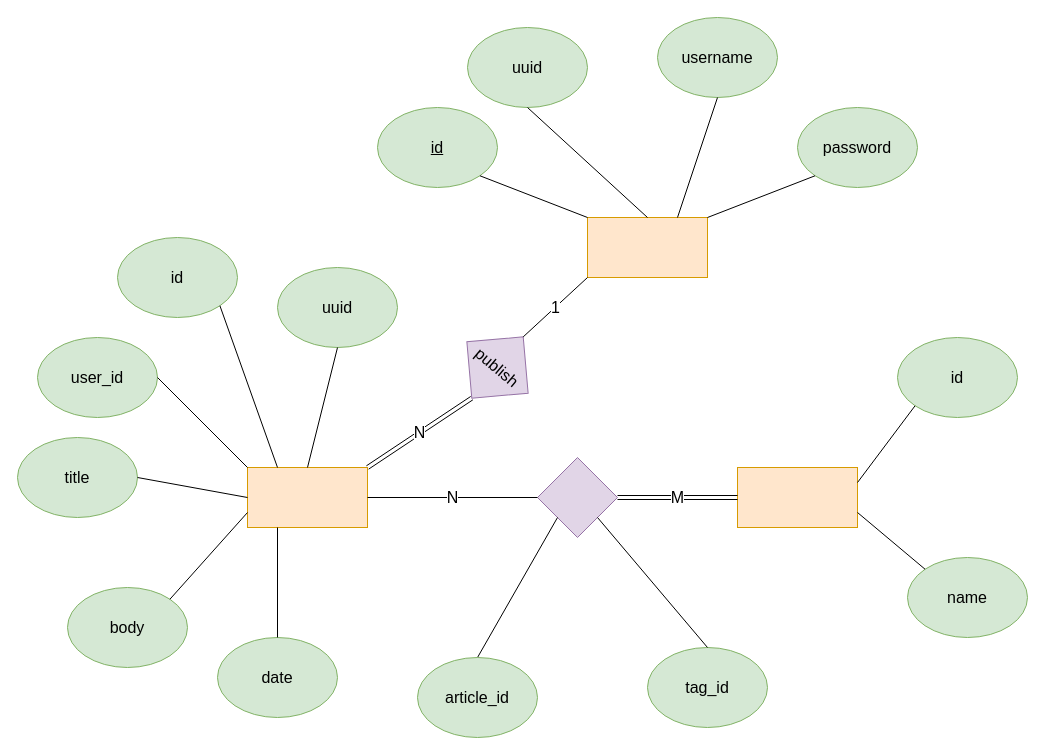
This 1045x755 diagram has some shape labels left out. Here are the shapes that lost their labels. From the top down, the centre of each, then its label:
[647,247]: Users
[307,497]: Articles
[577,497]: has
[797,497]: TagNames
